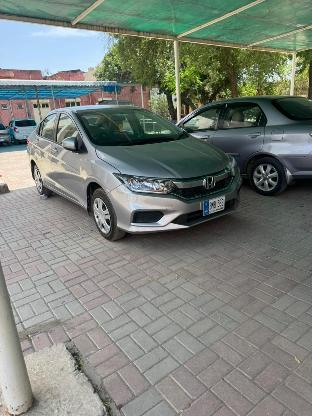car: (26, 95, 246, 247), (180, 87, 312, 189)
